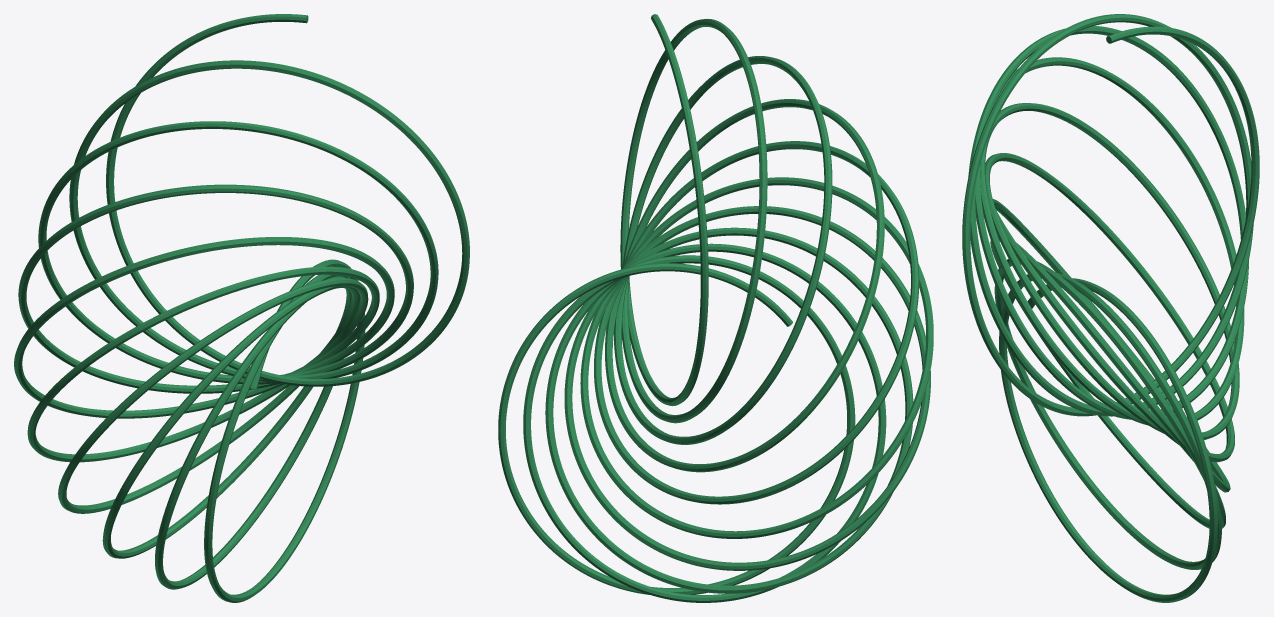
The model's file is hopf_drift_s64_180_10circuits.tube.obj.
3 renders of one model, left to right at view 1: azimuth 30°, elevation 25°; view 2: azimuth 150°, elevation 25°; view 3: azimuth 270°, elevation 25°, orthographic.
Visible parts, largest first — view 1: drift; view 2: drift; view 3: drift.
Boxes of the visible parts, x1=… form: drift: x1=14, y1=14, x2=469, y2=602; drift: x1=498, y1=14, x2=933, y2=602; drift: x1=962, y1=14, x2=1259, y2=602.
Size of the model in its own units: 1.25 by 1.81 by 0.8533.
